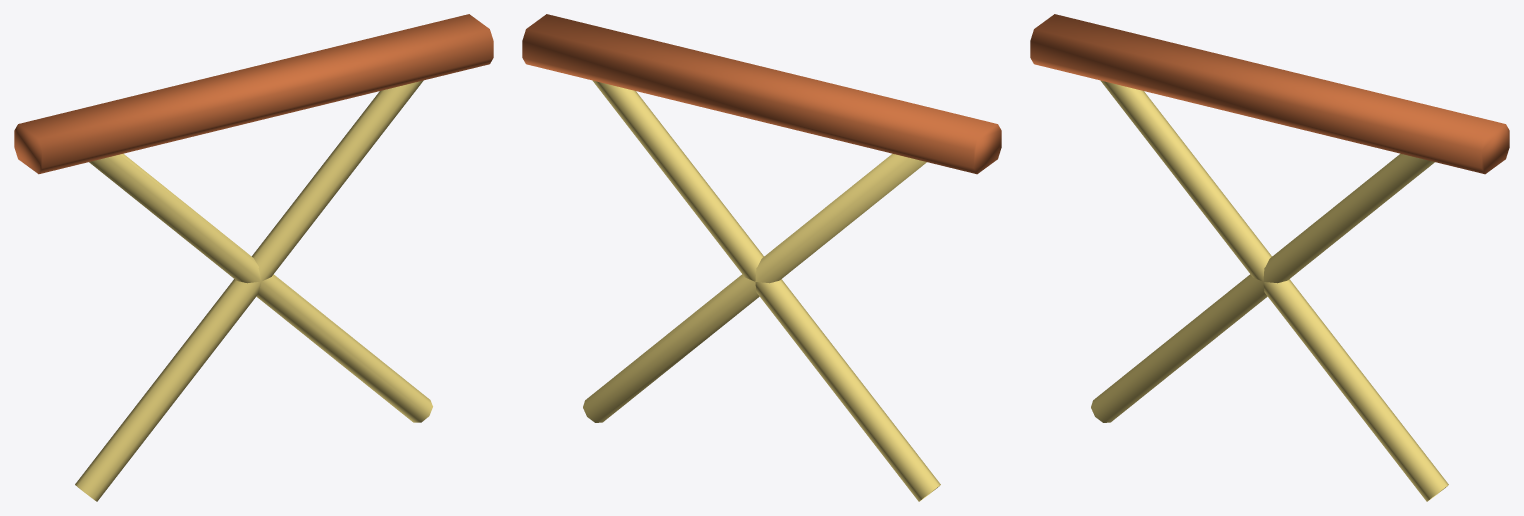
Rendered from bridgeTileFence.glb.
3 views of the same model, side by side, from view 1: azimuth 30°, elevation 25°; view 2: azimuth 150°, elevation 25°; view 3: azimuth 330°, elevation 25° (orthographic).
Visible parts, largest first — view 1: bridgeTileFence; view 2: bridgeTileFence; view 3: bridgeTileFence.
Part boxes in pixels (<box>): bridgeTileFence: <box>14,14,493,501</box>; bridgeTileFence: <box>522,14,1001,501</box>; bridgeTileFence: <box>1030,14,1509,501</box>.
Bounding box in the file's own units: 1 × 0.815 × 0.107.
1 material, 1 textured.
